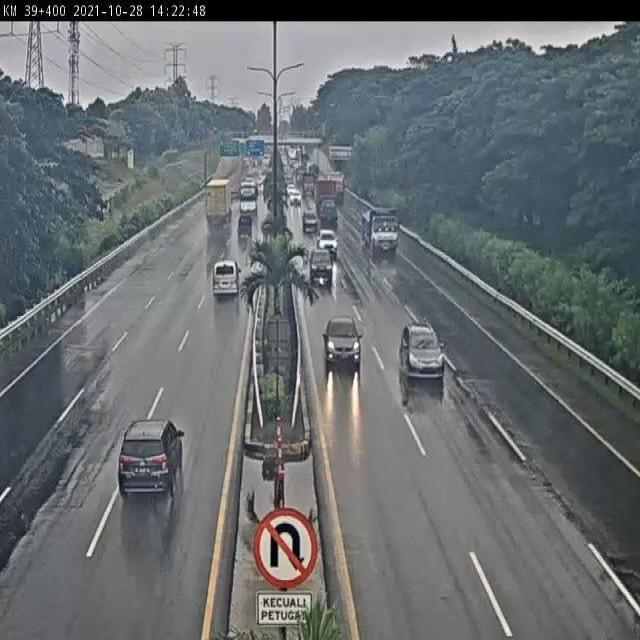car: (117, 418, 187, 498), (323, 316, 361, 375), (212, 259, 243, 297)
truck-l-: (358, 206, 400, 258)
